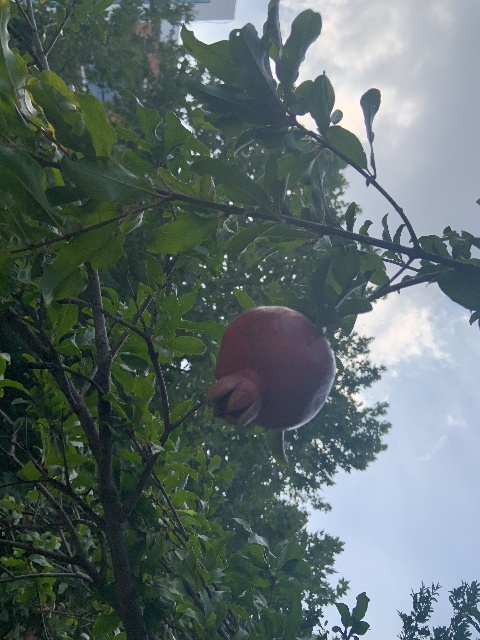ripe: (205, 305, 333, 427)
